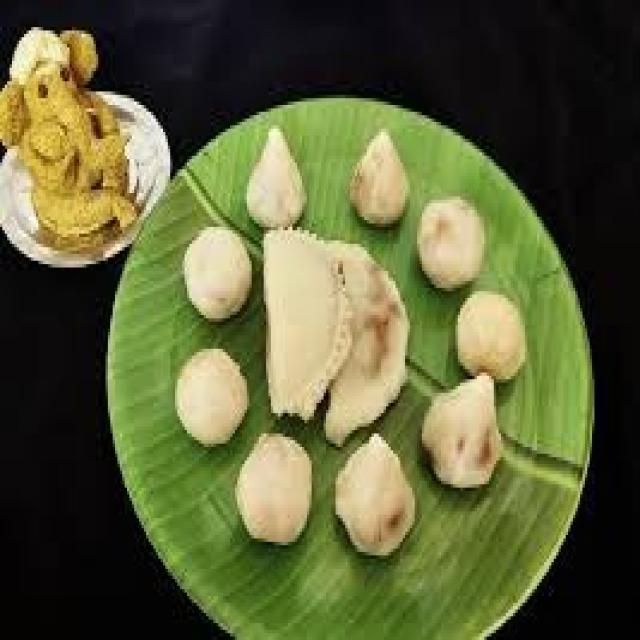poorna kolukattai: (163, 103, 553, 618)
